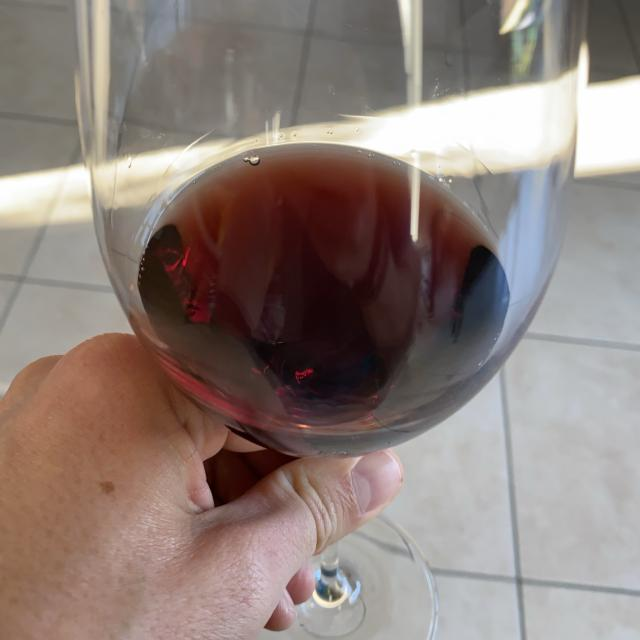wine-red: (139, 147, 515, 453)
